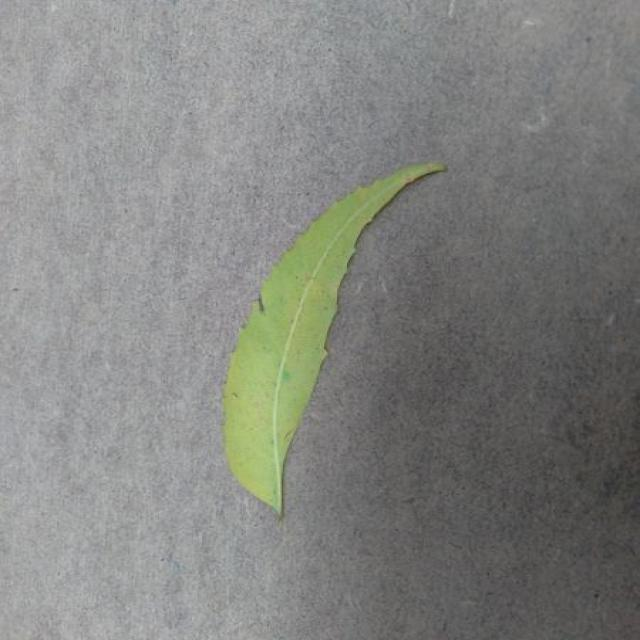neem: (223, 162, 445, 516)
